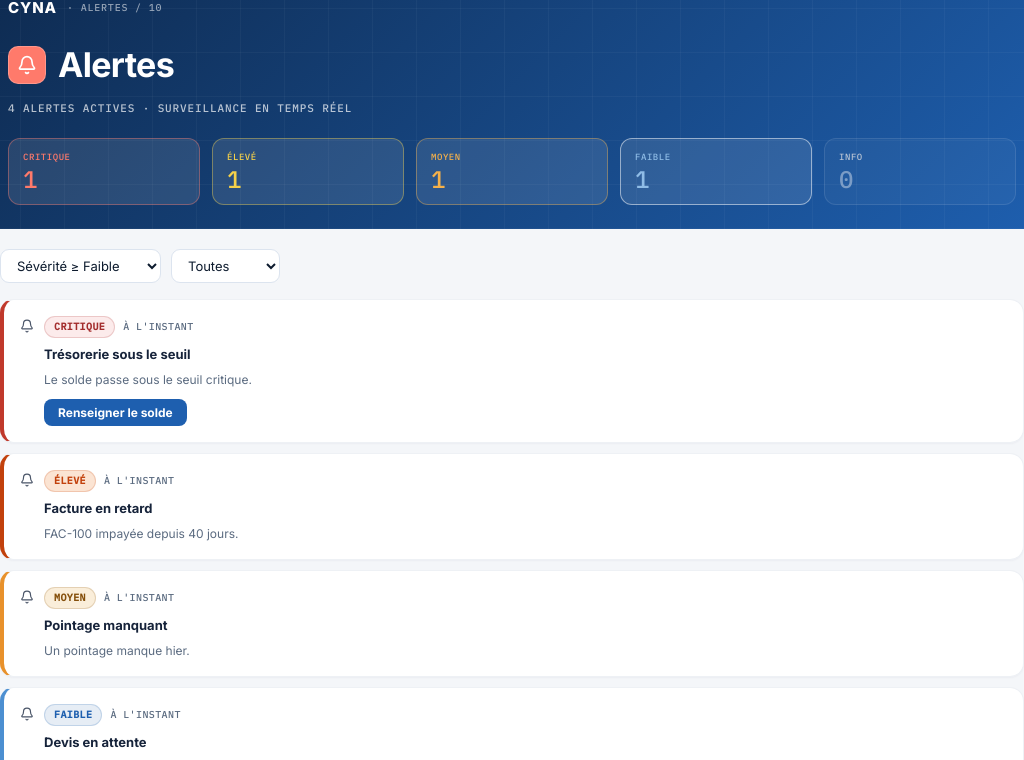
Test: FILTRE par sévérité › « Sévérité ≥ Élevé » ne garde que Critique + Élevé
This screenshot has width=1024, height=760.
Expected: the text "Devis en attente" is shown, [44,734,146,750]
Filtrer ≥ Élevé (HIGH) — le 1er combobox est le sélecteur de sévérité
Select "Sévérité ≥ Élevé" in the 1st dropdown at x=80, y=266, box [0,249,161,283]
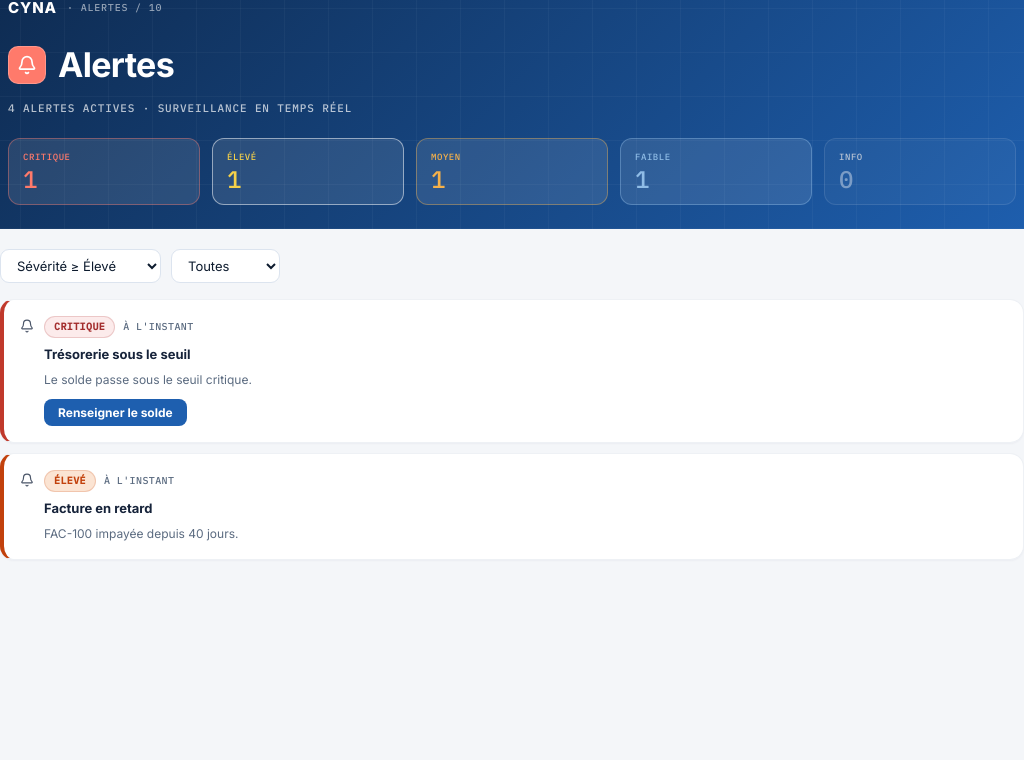
Expected: the text "Trésorerie sous le seuil" is shown, [44,344,194,365]
Expected: the text "Pointage manquant" is gone
Expected: the text "Devis en attente" is gone
